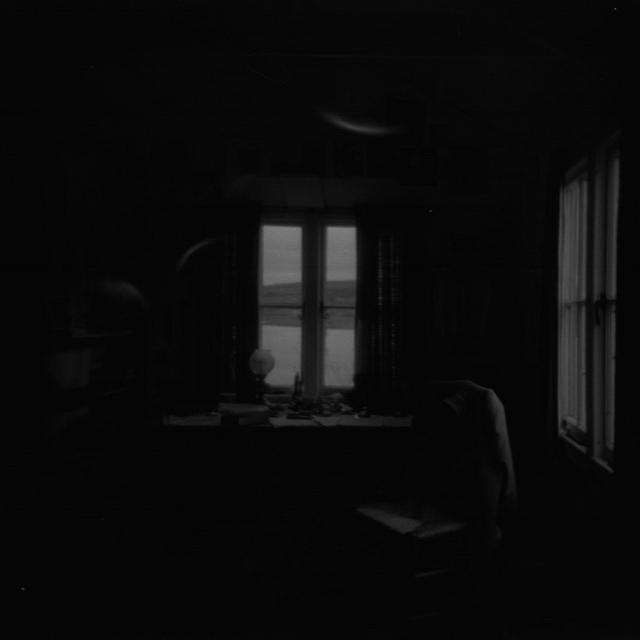Table: (93, 348, 516, 578)
chair: (323, 353, 538, 607)
